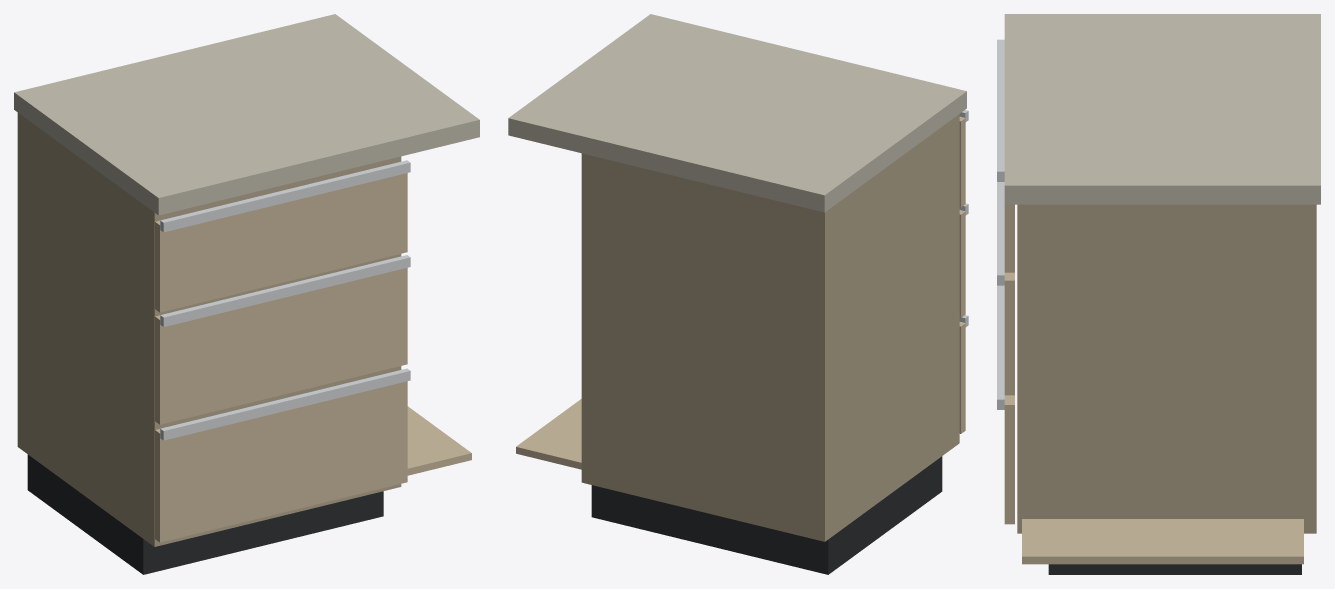
3 views of the same model, side by side, from view 1: azimuth 30°, elevation 25°; view 2: azimuth 150°, elevation 25°; view 3: azimuth 270°, elevation 25° (orthographic). The views are drawn at different scales.
Parts seen in each view (by area): view 1: DrawerFronts, Worktop, Carcass, Plinth, DrawerRail3, DrawerRail1, DrawerRail2, OpenShelf; view 2: Carcass, Worktop, Plinth, OpenShelf, DrawerFronts; view 3: Carcass, Worktop, OpenShelf, DrawerFronts, Plinth, DrawerRail3, DrawerRail1, DrawerRail2.
Boxes of the visible parts, x1,y1,x2,y2 form: DrawerFronts: [155, 173, 407, 542]; Worktop: [14, 14, 479, 215]; Carcass: [17, 113, 401, 546]; Plinth: [27, 454, 383, 574]; DrawerRail3: [160, 160, 410, 232]; DrawerRail1: [160, 368, 410, 440]; DrawerRail2: [160, 255, 410, 326]; OpenShelf: [407, 406, 471, 475]; Carcass: [581, 114, 959, 541]; Worktop: [508, 14, 966, 212]; Plinth: [591, 456, 942, 574]; OpenShelf: [516, 399, 581, 469]; DrawerFronts: [959, 116, 965, 433]; Carcass: [1017, 204, 1316, 533]; Worktop: [1004, 14, 1320, 204]; OpenShelf: [1022, 519, 1303, 564]; DrawerFronts: [1004, 204, 1014, 524]; Plinth: [1048, 564, 1301, 574]; DrawerRail3: [997, 39, 1004, 181]; DrawerRail1: [997, 285, 1004, 409]; DrawerRail2: [997, 182, 1004, 285].
Size of the model in its own units: 0.77 by 0.9 by 0.614.
